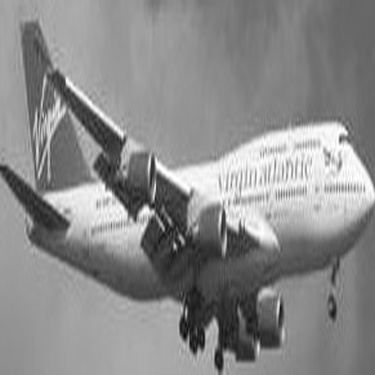airplane: (6, 4, 371, 369)
